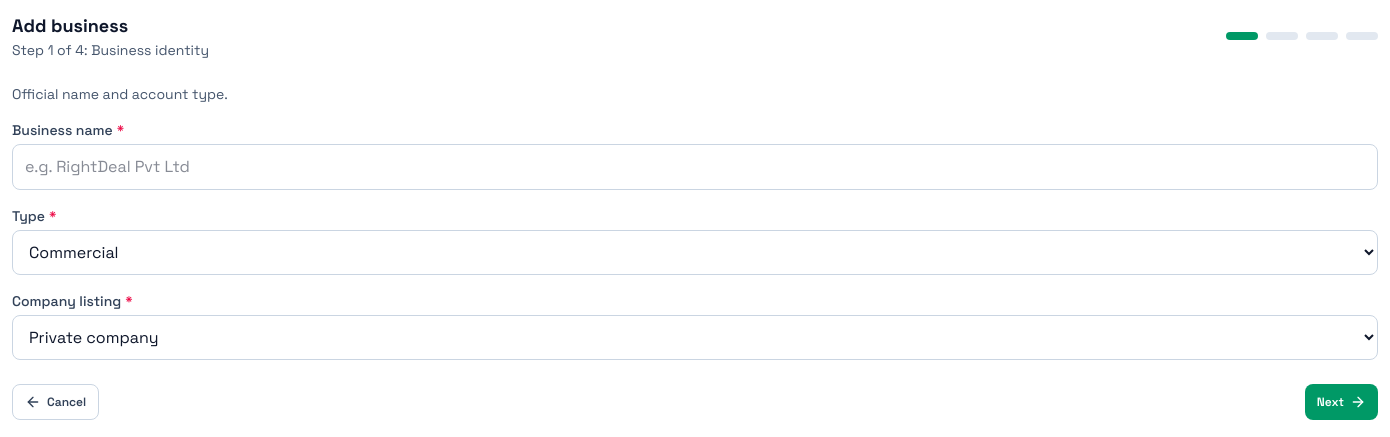
Test: BusinessCreateWizard › Back from step 2 goes to previous step
The width and height of the screenshot is (1390, 437).
Type "X" into the field labelled "Business name*" at (695, 167), box x1=12 y1=144 x2=1378 y2=190
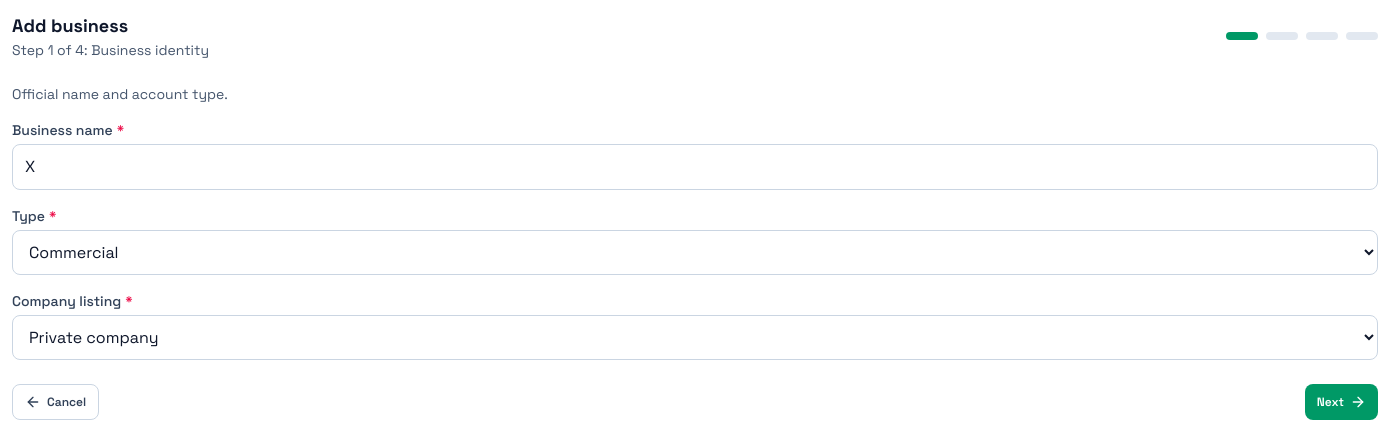
Click the button "Next" at (1341, 402), box x1=1305 y1=384 x2=1378 y2=420
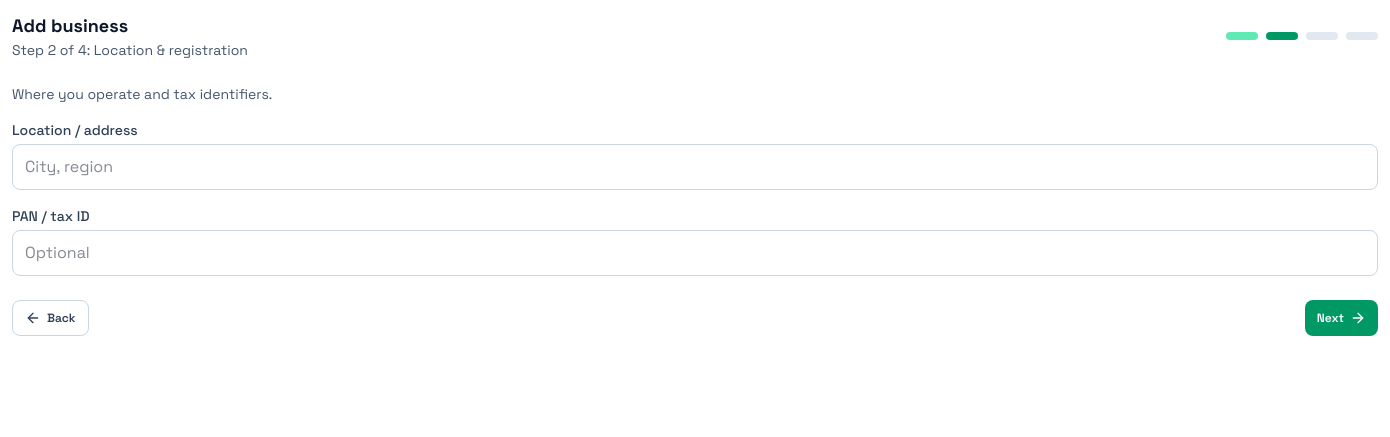
Check: the text "Step 2 of 4: Location & registration" is shown, box x1=12 y1=40 x2=248 y2=60
Click the button "Back" at (50, 318), box x1=12 y1=300 x2=88 y2=336
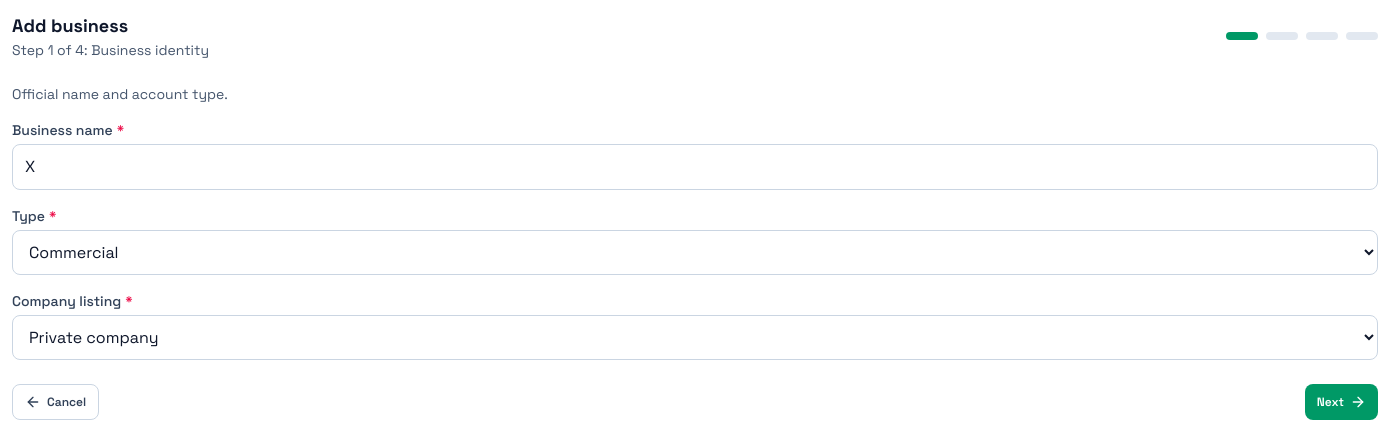
Check: the text "Step 1 of 4: Business identity" is shown, box x1=12 y1=40 x2=209 y2=60
